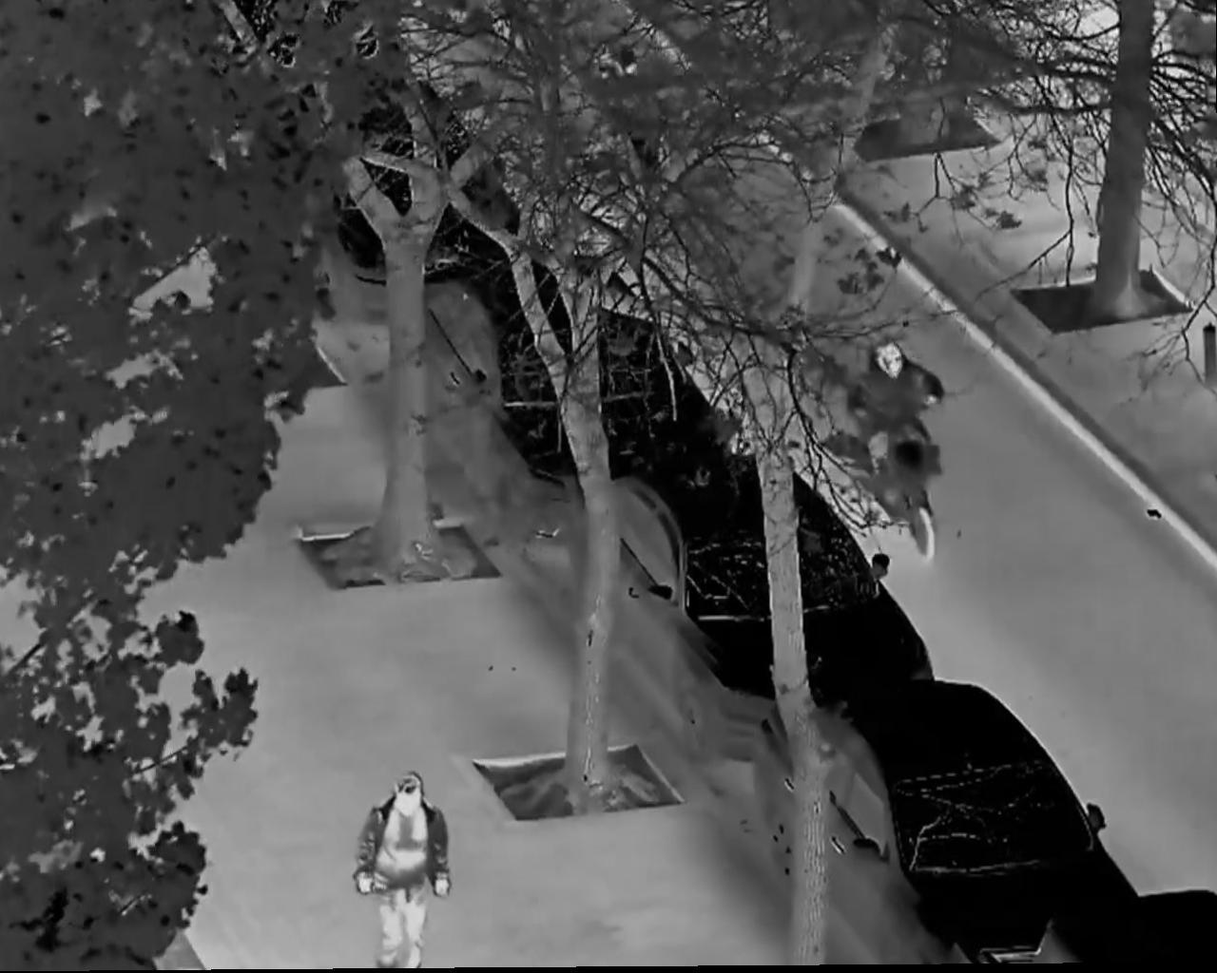person: (357, 769, 446, 973), (848, 334, 946, 490)
